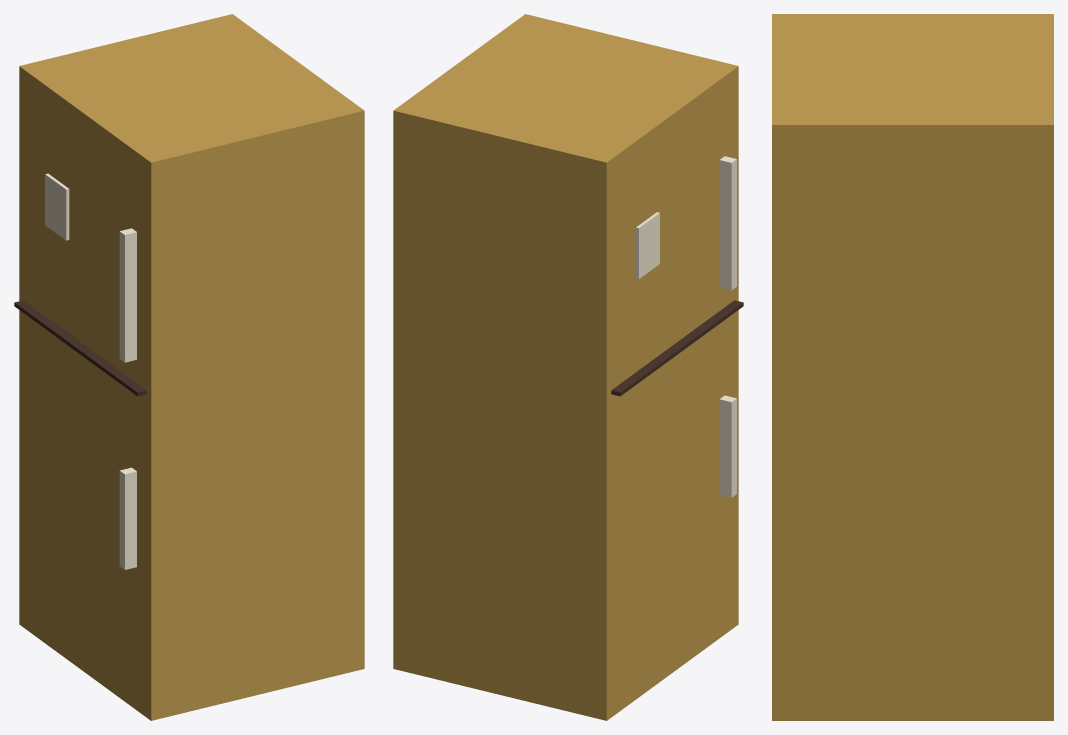
Rendered from fridge.glb.
3 views of the same model, side by side, from view 1: azimuth 30°, elevation 25°; view 2: azimuth 150°, elevation 25°; view 3: azimuth 270°, elevation 25° (orthographic). The views are drawn at different scales.
Parts seen in each view (by area): view 1: Box1, Box2, Box3, Box4, Box5; view 2: Box1, Box2, Box3, Box4, Box5; view 3: Box1.
Boxes of the visible parts, <box> form: Box1: <box>19,14,364,720</box>; Box2: <box>119,228,136,362</box>; Box3: <box>119,467,136,569</box>; Box4: <box>14,300,146,396</box>; Box5: <box>45,173,69,240</box>; Box1: <box>393,14,738,720</box>; Box2: <box>719,156,736,290</box>; Box3: <box>719,395,736,497</box>; Box4: <box>611,300,743,396</box>; Box5: <box>636,212,659,279</box>; Box1: <box>772,14,1053,720</box>.
Bounding box in the file's own units: 0.74 × 1.75 × 0.75.
